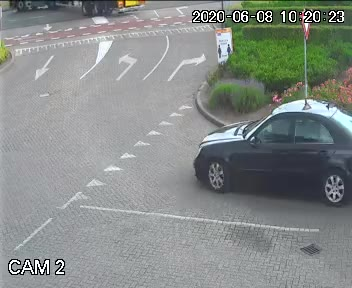car: (190, 95, 352, 201)
